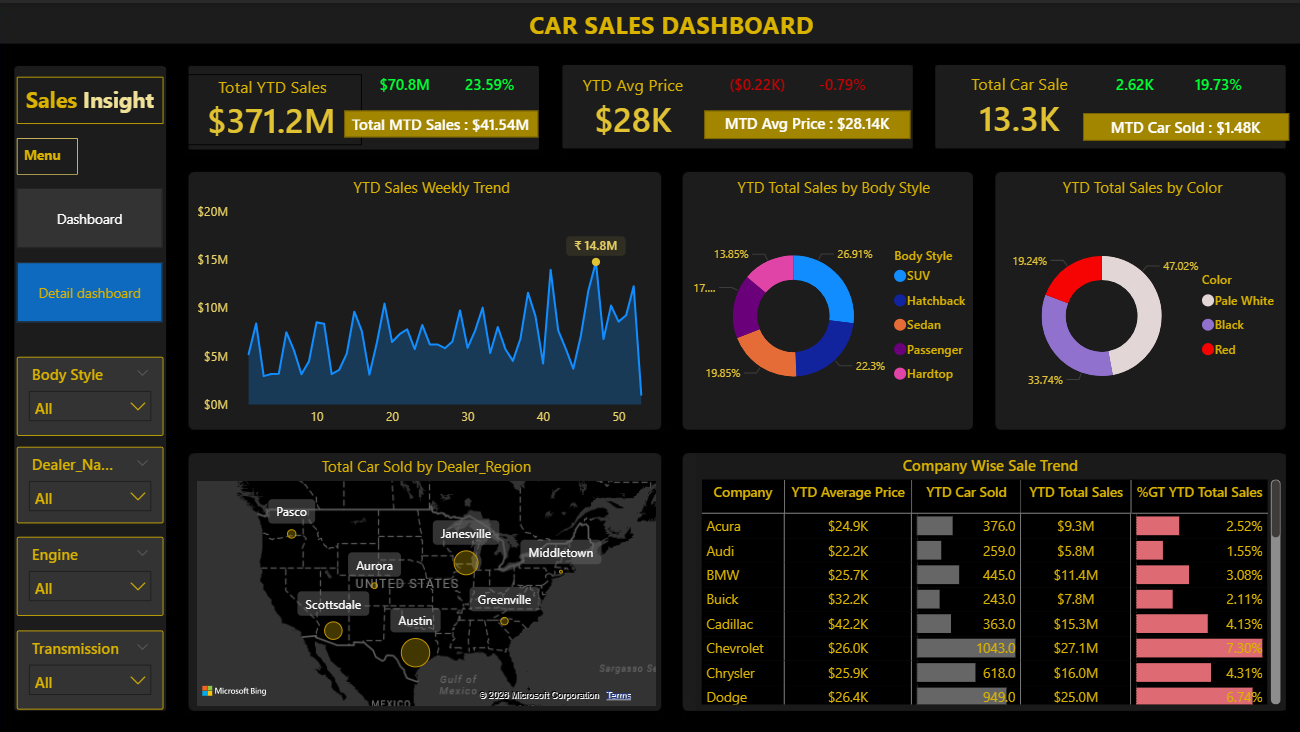

Layout of this report page (visuals, bound fields, positions):
{"tool":"powerbi","page":{"name":"Dashboard","canvas":[1280,720],"ordinal":0},"visuals":[{"type":"card","title":"Total YTD Sales","fields":{"Values":["car_data.YTD Total Sales"]},"box":[180.4,69.9,176.7,69.9],"z":0},{"type":"card","fields":{"Values":["car_data.Sales differrence"]},"box":[365.6,61.4,67.5,41.7],"z":1000},{"type":"card","fields":{"Values":["car_data.YOY Sales Growth"]},"box":[449.1,61.4,67.5,41.7],"z":2000},{"type":"card","fields":{"Values":["car_data.MTD KPI"]},"box":[340,105.8,190,26.7],"z":3000},{"type":"card","title":"YTD Avg Price","fields":{"Values":["car_data.Average YTD"]},"box":[535.6,68.9,176.7,70],"z":4000},{"type":"card","fields":{"Values":["car_data.Average difference"]},"box":[712.2,61.1,67.8,42.2],"z":5000},{"type":"card","fields":{"Values":["car_data.Avg YOY Growth"]},"box":[795.6,61.1,67.8,42.2],"z":6000},{"type":"card","fields":{"Values":["car_data.MTD Avg KPI"]},"box":[693.8,105,202.5,28],"z":7000},{"type":"card","title":"Total Car Sale","fields":{"Values":["car_data.Total Car Sold"]},"box":[913.8,67.5,177.5,70],"z":8000},{"type":"card","fields":{"Values":["car_data.Car sold differnce"]},"box":[1082.5,61.2,67.5,41.2],"z":9000},{"type":"card","fields":{"Values":["car_data.YOY Car Sold Growth"]},"box":[1165,61.2,67.5,41.2],"z":10000},{"type":"card","fields":{"Values":["car_data.MTD Car Sold Kpi"]},"box":[1065,107.5,202,27],"z":11000},{"type":"areaChart","title":"YTD Sales Weekly Trend","fields":{"Category":["Calendar.Weekday"],"Y":["Sum(car_data. Price ($) )","car_data.Max Point"]},"box":[190,170,471.2,253.8],"z":12000},{"type":"donutChart","fields":{"Category":["car_data.Body Style"],"Y":["car_data.YTD Total Sales"]},"box":[677.3,170.9,286.4,253.6],"z":13000},{"type":"donutChart","fields":{"Y":["car_data.YTD Total Sales"],"Category":["car_data.Color"]},"box":[980.9,170.9,286.4,253.6],"z":14000},{"type":"map","fields":{"Category":["car_data.Dealer_Region"],"Size":["car_data.Total Car Sold"]},"box":[190,443.6,460.9,250.9],"z":15000},{"type":"tableEx","title":"Company Wise Sale Trend","fields":{"Values":["car_data.Company","car_data.Average YTD","car_data.Total Car Sold","car_data.YTD Total Sales1","car_data.YTD Total Sales"]},"box":[685,443,579.1,250.9],"z":16000},{"type":"textbox","box":[516.2,0,290,46.2],"z":17000},{"type":"slicer","fields":{"Values":["car_data.Body Style"]},"box":[18.5,346.9,143.8,77.7],"z":18000},{"type":"slicer","fields":{"Values":["car_data.Dealer_Name"]},"box":[18.5,436.2,143.8,75.4],"z":19000},{"type":"slicer","fields":{"Values":["car_data.Engine"]},"box":[18.5,523.8,143.8,77.7],"z":20000},{"type":"slicer","fields":{"Values":["car_data.Transmission"]},"box":[18.5,616.2,143.8,77.7],"z":21000},{"type":"textbox","box":[18.8,72.5,143.8,46.2],"z":22000},{"type":"textbox","box":[18.8,132.5,60,36.2],"z":23000},{"type":"pageNavigator","box":[18.8,181.2,143.8,132.5],"z":24000}]}

Visuals, with their boxes in screenshot pixels (x1, y1, x2, y2), scaled from the page's 1280x720 canvas onto the 1300x732 screenshot:
"Total YTD Sales" card: [183,71,363,142]
card - car_data.Sales differrence: [371,62,440,105]
card - car_data.YOY Sales Growth: [456,62,525,105]
card - car_data.MTD KPI: [345,108,538,135]
"YTD Avg Price" card: [544,70,723,141]
card - car_data.Average difference: [723,62,792,105]
card - car_data.Avg YOY Growth: [808,62,877,105]
card - car_data.MTD Avg KPI: [705,107,910,135]
"Total Car Sale" card: [928,69,1108,140]
card - car_data.Car sold differnce: [1099,62,1168,104]
card - car_data.YOY Car Sold Growth: [1183,62,1252,104]
card - car_data.MTD Car Sold Kpi: [1082,109,1287,137]
"YTD Sales Weekly Trend" areaChart: [193,173,672,431]
donutChart - car_data.Body Style x car_data.YTD Total Sales: [688,174,979,432]
donutChart - car_data.YTD Total Sales x car_data.Color: [996,174,1287,432]
map - car_data.Dealer_Region x car_data.Total Car Sold: [193,451,661,706]
"Company Wise Sale Trend" tableEx: [696,450,1284,705]
textbox: [524,0,819,47]
slicer - car_data.Body Style: [19,353,165,432]
slicer - car_data.Dealer_Name: [19,443,165,520]
slicer - car_data.Engine: [19,533,165,612]
slicer - car_data.Transmission: [19,626,165,705]
textbox: [19,74,165,121]
textbox: [19,135,80,172]
pageNavigator: [19,184,165,319]
